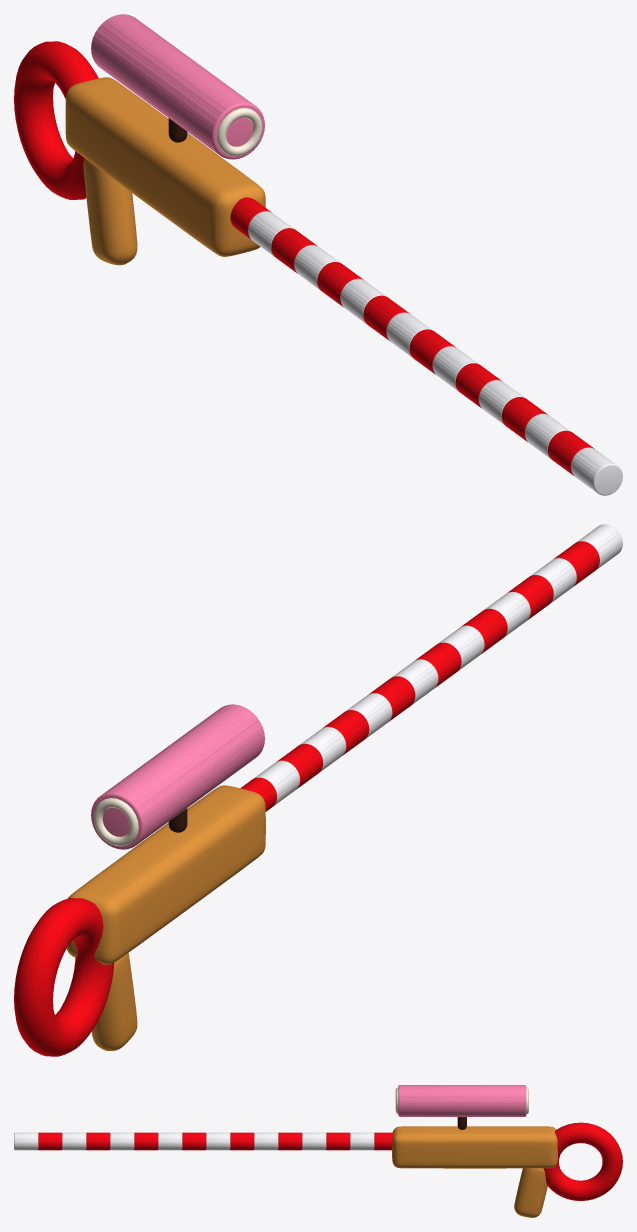
The model's file is DMR3.glb.
3 renders of one model, top to bottom at view 1: azimuth 30°, elevation 25°; view 2: azimuth 150°, elevation 25°; view 3: azimuth 270°, elevation 25°, orthographic. The views are drawn at different scales.
Parts seen in each view (by area): view 1: Cube, Cylinder.016, Torus, Cube.002, Cylinder.015, Torus.002, Cylinder.001, Cylinder.002, Cylinder.007, Cylinder.008, Cylinder.003, Cylinder.005 (+9 smaller); view 2: Cube, Torus, Cylinder.016, Cube.002, Torus.001, Cylinder.015, Cylinder.008, Cylinder.012, Cylinder.013, Cylinder.006, Cylinder.007, Cylinder.009 (+8 smaller); view 3: Cube, Cylinder.016, Torus, Cube.002, Cylinder.001, Cylinder.002, Cylinder.003, Cylinder.004, Cylinder.005, Cylinder.006, Cylinder.007, Cylinder.008 (+8 smaller).
Part boxes in pixels (<box>): Cube: <box>65,77,265,256</box>; Cylinder.016: <box>91,14,264,159</box>; Torus: <box>14,41,98,199</box>; Cube.002: <box>83,158,137,265</box>; Cylinder.015: <box>571,447,622,495</box>; Torus.002: <box>217,108,262,156</box>; Cylinder.001: <box>248,211,293,256</box>; Cylinder.002: <box>271,228,317,273</box>; Cylinder.007: <box>386,312,433,358</box>; Cylinder.008: <box>409,329,456,374</box>; Cylinder.003: <box>294,245,340,290</box>; Cylinder.005: <box>340,278,386,324</box>; Cube: <box>66,785,265,964</box>; Torus: <box>14,898,114,1056</box>; Cylinder.016: <box>91,704,264,849</box>; Cube.002: <box>91,953,137,1050</box>; Torus.001: <box>93,798,138,846</box>; Cylinder.015: <box>576,524,622,569</box>; Cylinder.008: <box>415,642,461,688</box>; Cylinder.012: <box>507,575,553,620</box>; Cylinder.013: <box>531,558,576,603</box>; Cylinder.006: <box>369,676,415,721</box>; Cylinder.007: <box>392,659,438,704</box>; Cylinder.009: <box>438,625,484,670</box>; Cube: <box>392,1126,557,1168</box>; Cylinder.016: <box>398,1085,526,1116</box>; Torus: <box>543,1122,622,1200</box>; Cube.002: <box>514,1168,547,1217</box>; Cylinder.001: <box>350,1132,374,1150</box>; Cylinder.002: <box>326,1132,350,1150</box>; Cylinder.003: <box>302,1132,326,1150</box>; Cylinder.004: <box>278,1132,302,1150</box>; Cylinder.005: <box>254,1132,278,1150</box>; Cylinder.006: <box>230,1132,254,1150</box>; Cylinder.007: <box>206,1132,230,1150</box>; Cylinder.008: <box>182,1132,206,1150</box>.
Size of the model in its own units: 0.0499 by 0.2251 by 0.9514.
